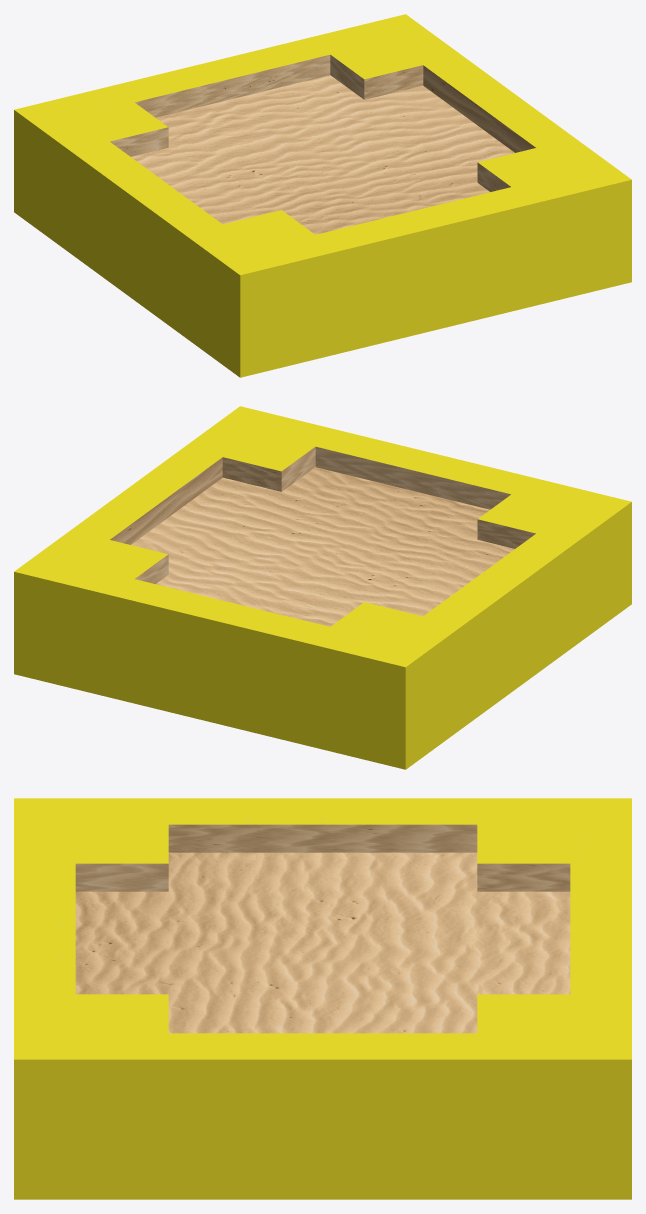
The model's file is pool_without_water.obj.
3 views of the same model, one above another, from view 1: azimuth 30°, elevation 25°; view 2: azimuth 150°, elevation 25°; view 3: azimuth 270°, elevation 25° (orthographic). The views are drawn at different scales.
Visible parts, largest first — view 1: Cube; view 2: Cube; view 3: Cube.
Part boxes in pixels (box(x1,y1,x2,y2)): Cube: box(14, 14, 631, 377); Cube: box(14, 406, 631, 769); Cube: box(14, 798, 631, 1199).
Bounding box in the file's own units: 20 × 5 × 20.
1 material, 1 textured.
